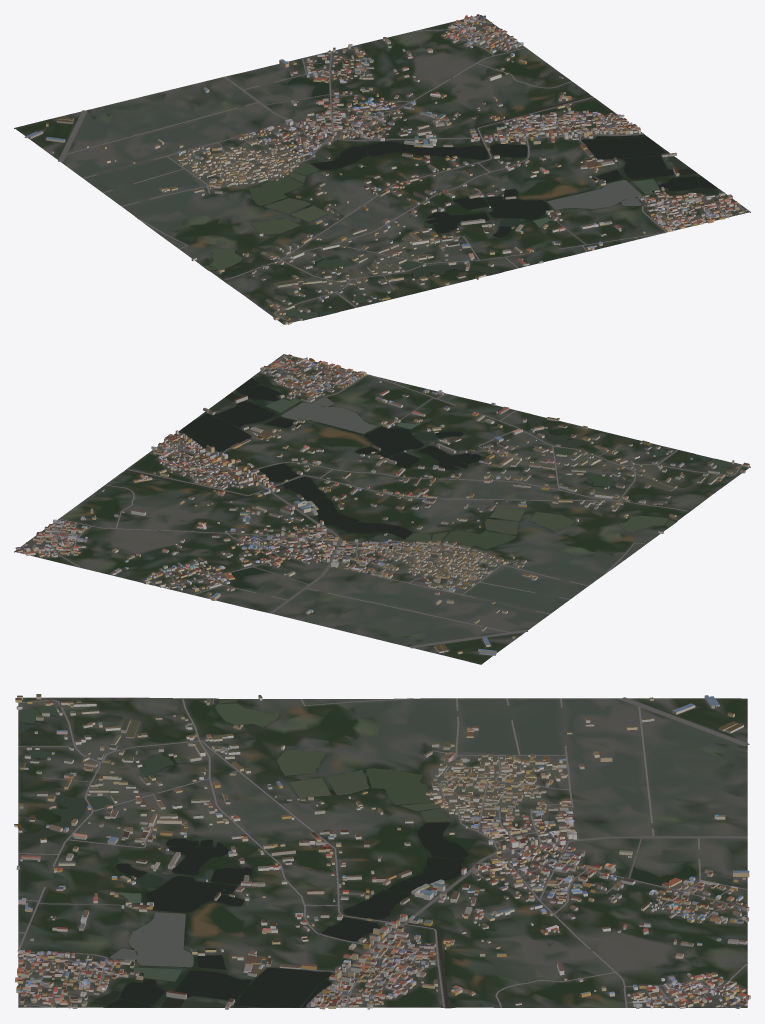
3 renders of one model, top to bottom at view 1: azimuth 30°, elevation 25°; view 2: azimuth 150°, elevation 25°; view 3: azimuth 270°, elevation 25°, orthographic. The views are drawn at different scales.
Parts seen in each view (by area): view 1: ground, buildings, water, roads; view 2: ground, buildings, water, roads; view 3: ground, buildings, water, roads.
Part boxes in pixels (x1,y1,x2,y2): ground: (14, 15, 750, 324); buildings: (24, 14, 747, 324); water: (203, 78, 717, 319); roads: (58, 16, 745, 320); ground: (14, 354, 750, 664); buildings: (15, 354, 749, 655); water: (124, 376, 731, 588); roads: (20, 355, 742, 648); ground: (18, 697, 747, 1008); buildings: (14, 694, 750, 1009); water: (18, 699, 695, 1007); roads: (17, 697, 749, 1007).
Bounding box in the file's own units: 1418 × 18.12 × 1417.
